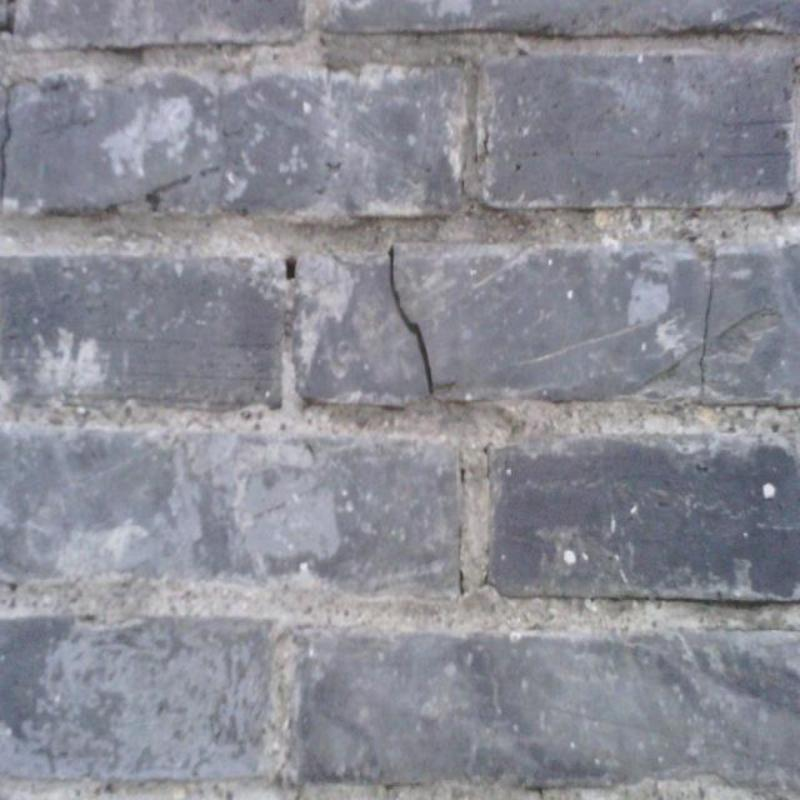crack: (0, 75, 62, 211), (389, 246, 433, 393), (699, 261, 714, 385), (286, 259, 296, 279)
